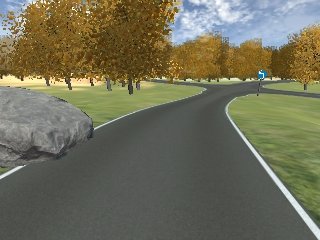left: (257, 71, 265, 80)
